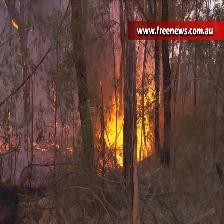fire: (91, 55, 157, 168), (1, 102, 79, 158), (7, 16, 23, 31)
